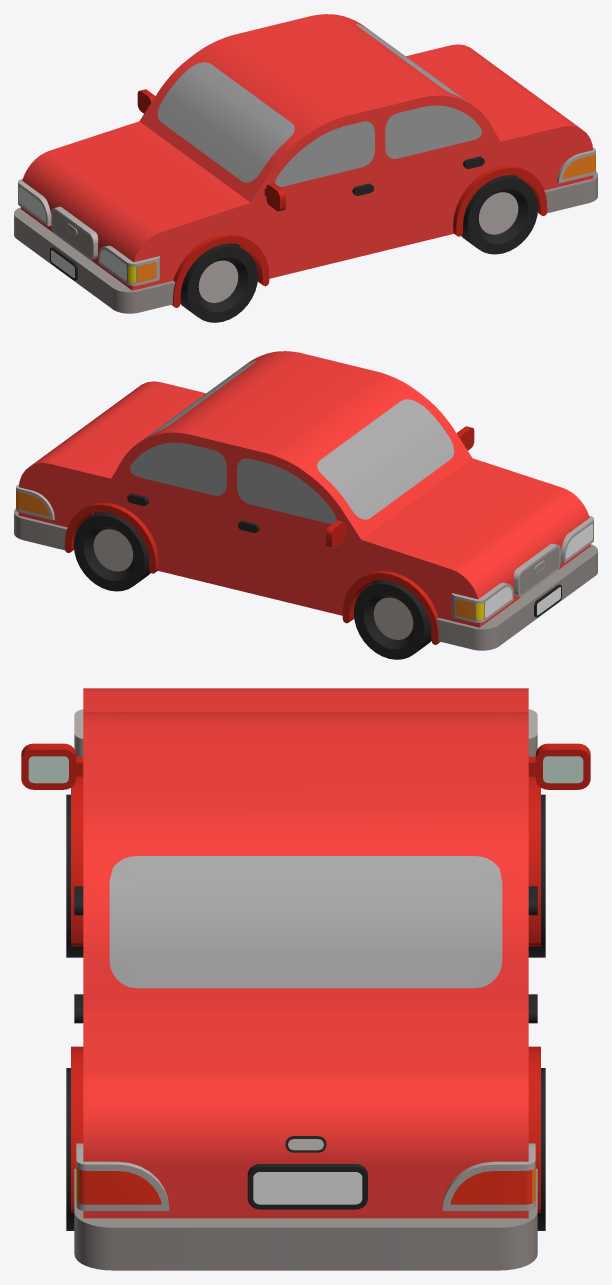
The model's file is City Car Sedan Mod.fbx.
The picture shows the model from 3 angles, top to bottom: view 1: azimuth 30°, elevation 25°; view 2: azimuth 150°, elevation 25°; view 3: azimuth 270°, elevation 25°; orthographic projection. The views are drawn at different scales.
Visible parts, largest first — view 1: City_Car_Sedan, Wheels_Front, Wheels_Back; view 2: City_Car_Sedan, Wheels_Front, Wheels_Back; view 3: City_Car_Sedan, Wheels_Front, Wheels_Back.
Part boxes in pixels (x1,y1,x2,y2): City_Car_Sedan: (14, 14, 597, 313); Wheels_Front: (180, 243, 257, 322); Wheels_Back: (461, 175, 538, 254); City_Car_Sedan: (14, 351, 597, 650); Wheels_Front: (354, 580, 431, 659); Wheels_Back: (73, 512, 150, 591); City_Car_Sedan: (21, 688, 590, 1270); Wheels_Front: (66, 794, 545, 957); Wheels_Back: (66, 1068, 545, 1230).
Size of the model in its own units: 964 by 326 by 491.
